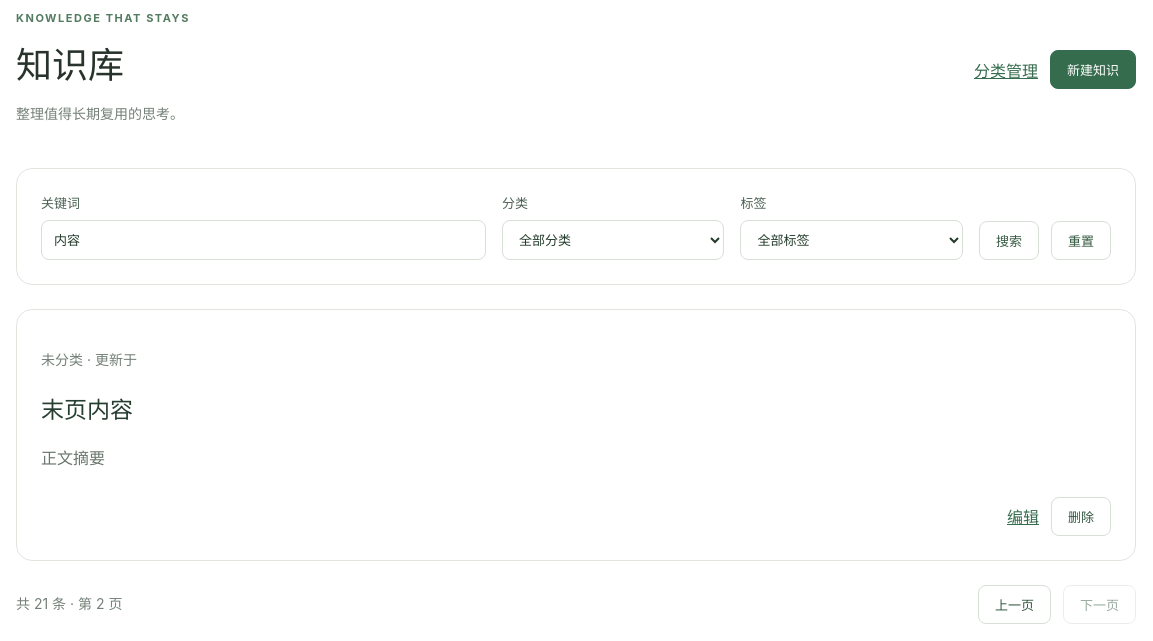
Test: returns to a valid page after deleting the last item and retains filters
Step 1. Click the button with class "danger-link" → coordinates (1081, 516), box [1051,496,1111,536]
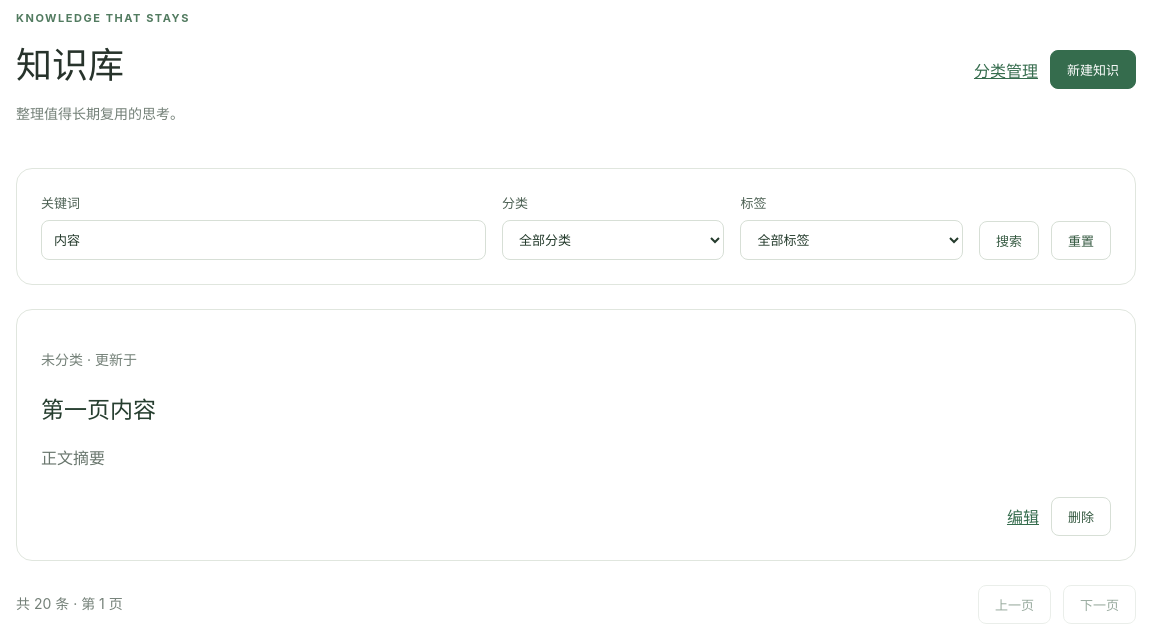
Check: the text "第一页内容" is shown, box [41,396,156,424]
